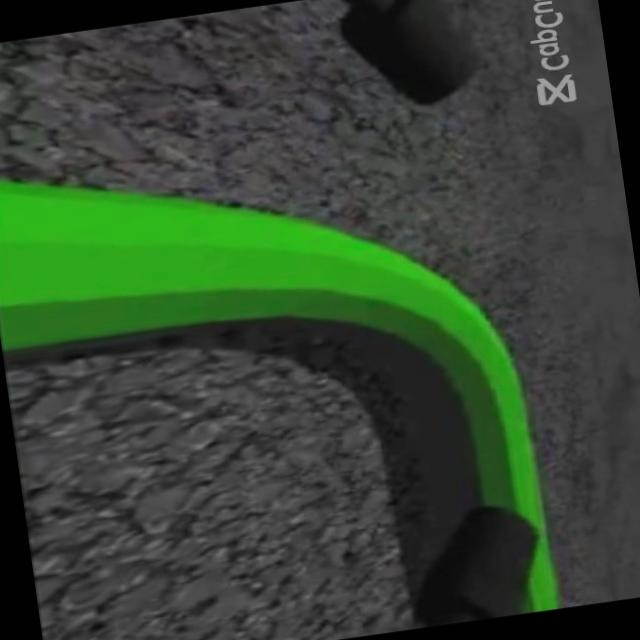gas: (0, 104, 514, 435), (309, 189, 542, 525)
